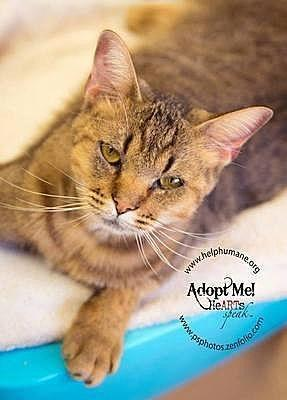bengal: (60, 21, 280, 251)
